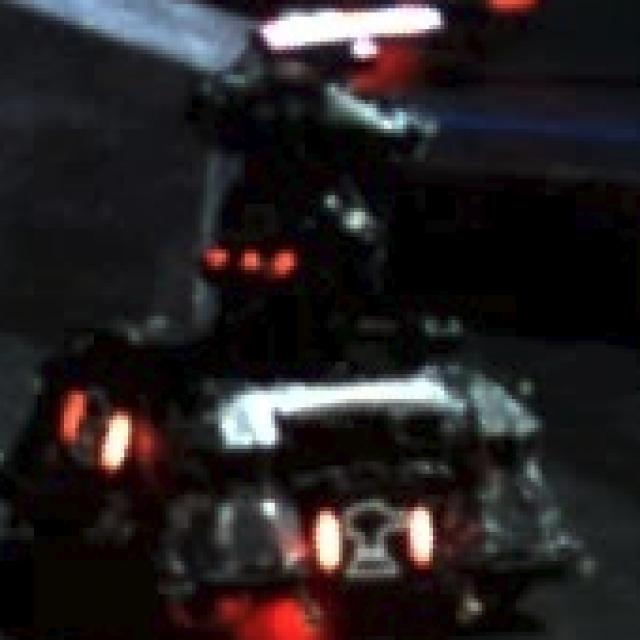Rs: (312, 507, 433, 569), (56, 386, 132, 469)
